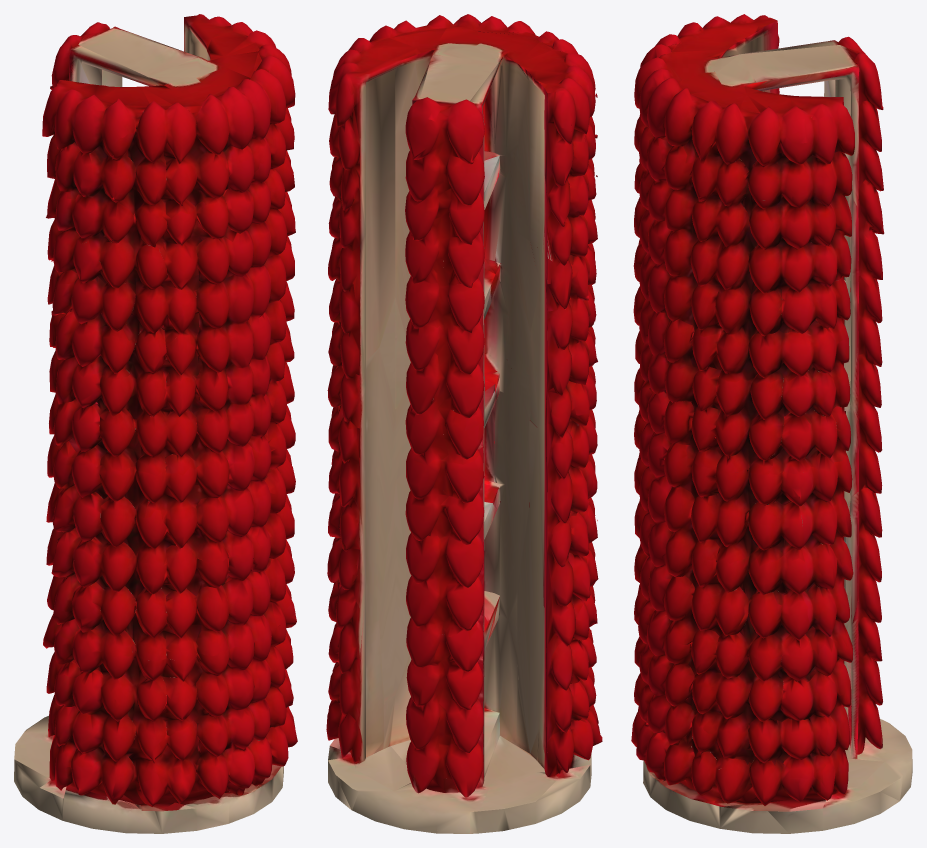
The model's file is 13_1_sy_osucr_cabinet.glb.
The picture shows the model from 3 angles, left to right: view 1: azimuth 30°, elevation 25°; view 2: azimuth 150°, elevation 25°; view 3: azimuth 270°, elevation 25°; orthographic projection.
Visible parts, largest first — view 1: tripo_material_ef4a5680-ff67-4d40-bbfe-b0333a305b57; view 2: tripo_material_ef4a5680-ff67-4d40-bbfe-b0333a305b57; view 3: tripo_material_ef4a5680-ff67-4d40-bbfe-b0333a305b57.
Boxes of the visible parts, box(x1,y1,x2,y2) form: tripo_material_ef4a5680-ff67-4d40-bbfe-b0333a305b57: box(14, 14, 297, 833); tripo_material_ef4a5680-ff67-4d40-bbfe-b0333a305b57: box(326, 14, 602, 833); tripo_material_ef4a5680-ff67-4d40-bbfe-b0333a305b57: box(631, 14, 912, 833).
Size of the model in its own units: 0.5924 by 1.7 by 0.6009.
1 material, 1 textured.
